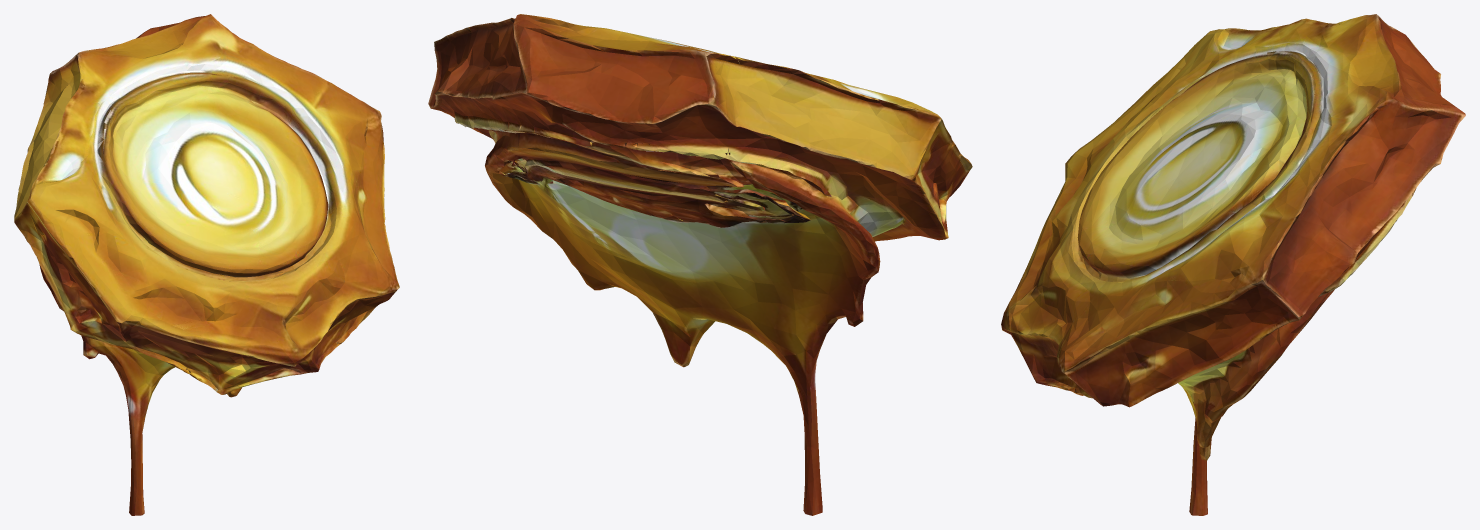
Rendered from honeycomb.glb.
3 renders of one model, left to right at view 1: azimuth 30°, elevation 25°; view 2: azimuth 150°, elevation 25°; view 3: azimuth 270°, elevation 25°, orthographic. The views are drawn at different scales.
Visible parts, largest first — view 1: tmp_llsj9ne.ply; view 2: tmp_llsj9ne.ply; view 3: tmp_llsj9ne.ply.
Boxes of the visible parts, x1,y1,x2,y2 form: tmp_llsj9ne.ply: [14, 14, 399, 515]; tmp_llsj9ne.ply: [428, 14, 972, 515]; tmp_llsj9ne.ply: [1001, 14, 1465, 515].
Size of the model in its own units: 1.92 by 1.99 by 1.66.
Materials: 1 (1 with a texture image).
